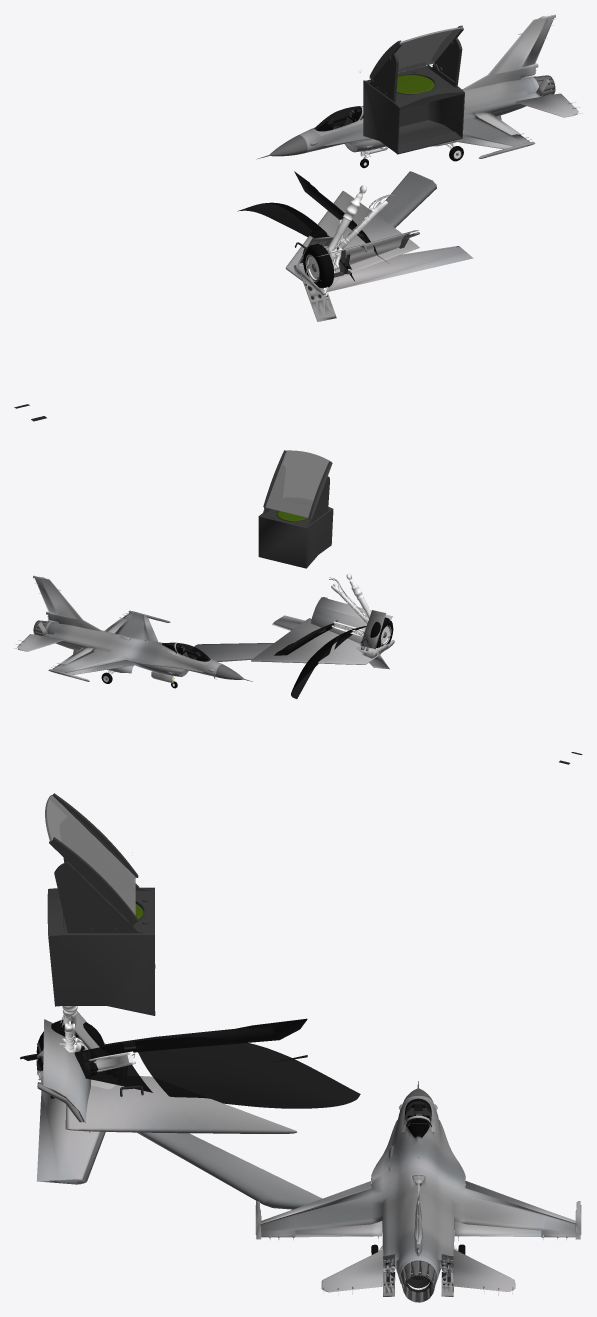
File: f_16a_3_blend_by_nilstheacevrchat_dkv1507.glb
3 views of the same model, one above another, from view 1: azimuth 30°, elevation 25°; view 2: azimuth 150°, elevation 25°; view 3: azimuth 270°, elevation 25° (orthographic). The views are drawn at different scales.
Parts seen in each view (by area): view 1: G-.012, _G-Object.001 (Loose Mesh), Gruppieren#20, Gruppieren#18, Gruppieren#5, G-.013, Gruppieren#21, Gruppieren#26, Gruppieren#26.001, Gruppieren#16, Gruppieren#24, _C-Gruppieren#18 (Loose Mesh).001 (+3 smaller); view 2: G-.012, _G-Object.001 (Loose Mesh), G-.013, Gruppieren#18, Gruppieren#16, Gruppieren#21, Gruppieren#5, Gruppieren#26, Gruppieren#26.001, Gruppieren#24, Gruppieren#20, G-.020 (+2 smaller); view 3: G-.012, _G-Object.001 (Loose Mesh), Gruppieren#26, Gruppieren#26.001, Gruppieren#18, Gruppieren#21, Gruppieren#20, G-.013, Gruppieren#16, G-.020, _C-Gruppieren#18 (Loose Mesh), _C-Gruppieren#18 (Loose Mesh).001 (+4 smaller).
Part boxes in pixels (x1,y1,x2,y2): G-.012: [360, 25, 464, 154]; _G-Object.001 (Loose Mesh): [299, 14, 555, 158]; Gruppieren#20: [293, 246, 473, 292]; Gruppieren#18: [285, 191, 419, 281]; Gruppieren#5: [303, 185, 396, 288]; G-.013: [396, 27, 462, 93]; Gruppieren#21: [314, 171, 436, 295]; Gruppieren#26: [237, 202, 351, 269]; Gruppieren#26.001: [240, 203, 350, 268]; Gruppieren#16: [305, 230, 419, 283]; Gruppieren#24: [297, 236, 336, 321]; _C-Gruppieren#18 (Loose Mesh).001: [515, 93, 578, 117]; G-.012: [258, 450, 333, 568]; _G-Object.001 (Loose Mesh): [33, 575, 222, 681]; G-.013: [266, 450, 328, 520]; Gruppieren#18: [251, 618, 379, 664]; Gruppieren#16: [311, 597, 392, 654]; Gruppieren#21: [194, 640, 394, 661]; Gruppieren#5: [329, 573, 393, 647]; Gruppieren#26: [291, 626, 366, 698]; Gruppieren#26.001: [291, 626, 365, 698]; Gruppieren#24: [360, 610, 389, 669]; Gruppieren#20: [272, 615, 389, 658]; G-.020: [274, 620, 368, 655]; G-.012: [45, 793, 155, 1015]; _G-Object.001 (Loose Mesh): [255, 1096, 581, 1289]; Gruppieren#26: [36, 1037, 360, 1108]; Gruppieren#26.001: [37, 1038, 359, 1107]; Gruppieren#18: [65, 1076, 296, 1133]; Gruppieren#21: [37, 1070, 322, 1209]; Gruppieren#20: [36, 1074, 116, 1184]; G-.013: [45, 795, 142, 918]; Gruppieren#16: [36, 1019, 90, 1132]; G-.020: [20, 1018, 307, 1096]; _C-Gruppieren#18 (Loose Mesh): [453, 1249, 515, 1291]; _C-Gruppieren#18 (Loose Mesh).001: [321, 1249, 383, 1292].
Size of the model in its own units: 10.41 by 4.77 by 5.44.
Materials: 35 (3 with a texture image).
